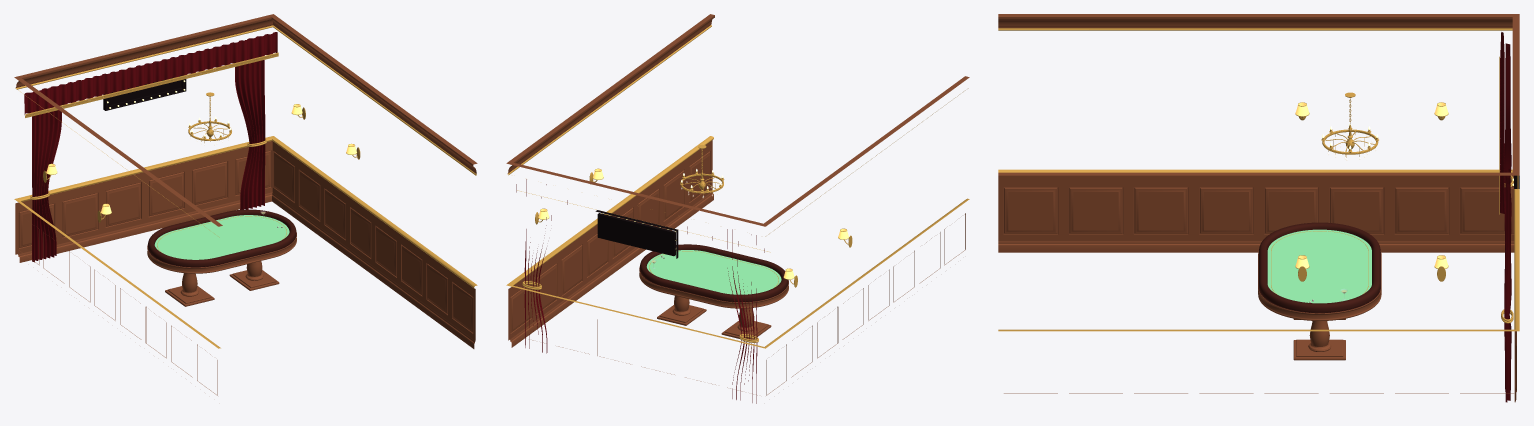
The model's file is casino.glb.
3 views of the same model, side by side, from view 1: azimuth 30°, elevation 25°; view 2: azimuth 150°, elevation 25°; view 3: azimuth 270°, elevation 25° (orthographic). The views are drawn at different scales.
Visible parts, largest first — view 1: Vertaefelung, Vorhaenge, Zierleisten, Filz, Lederrand, Borten, Neonschild, Fussplatten, Zarge, Tischfuesse, Kronleuchter_Gold; view 2: Vertaefelung, Filz, Zierleisten, Neonschild, Lederrand, Vorhaenge, Zarge, Fussplatten, Tischfuesse, Kronleuchter_Gold; view 3: Vertaefelung, Filz, Zierleisten, Vorhaenge, Lederrand, Zarge, Fussplatten, Kronleuchter_Gold, Wandleuchter_Schirme, Tischfuesse.
Part boxes in pixels (left/top/right/bottom): Vertaefelung: left=14, top=14, right=477, bottom=395; Vorhaenge: left=24, top=32, right=277, bottom=262; Zierleisten: left=14, top=25, right=477, bottom=348; Filz: left=154, top=215, right=289, bottom=259; Lederrand: left=148, top=209, right=296, bottom=267; Borten: left=25, top=52, right=278, bottom=199; Neonschild: left=103, top=75, right=186, bottom=110; Fussplatten: left=165, top=270, right=279, bottom=306; Zarge: left=147, top=232, right=296, bottom=273; Tischfuesse: left=180, top=261, right=263, bottom=296; Kronleuchter_Gold: left=188, top=92, right=231, bottom=142; Vertaefelung: left=506, top=14, right=969, bottom=395; Filz: left=646, top=250, right=781, bottom=294; Zierleisten: left=506, top=25, right=969, bottom=348; Neonschild: left=595, top=210, right=678, bottom=258; Lederrand: left=640, top=244, right=788, bottom=301; Vorhaenge: left=516, top=179, right=764, bottom=403; Zarge: left=639, top=266, right=788, bottom=308; Fussplatten: left=657, top=305, right=771, bottom=339; Tischfuesse: left=672, top=296, right=755, bottom=331; Kronleuchter_Gold: left=680, top=144, right=724, bottom=194; Vertaefelung: left=998, top=14, right=1519, bottom=402; Filz: left=1267, top=229, right=1371, bottom=303; Zierleisten: left=998, top=28, right=1519, bottom=331; Vorhaenge: left=1500, top=32, right=1511, bottom=402; Lederrand: left=1259, top=222, right=1380, bottom=312; Zarge: left=1258, top=251, right=1381, bottom=320; Fussplatten: left=1293, top=318, right=1345, bottom=360; Kronleuchter_Gold: left=1321, top=92, right=1378, bottom=157; Wandleuchter_Schirme: left=1295, top=102, right=1448, bottom=268; Tischfuesse: left=1308, top=321, right=1331, bottom=351.
Bounding box in the file's own units: 4.4 × 3 × 6.
